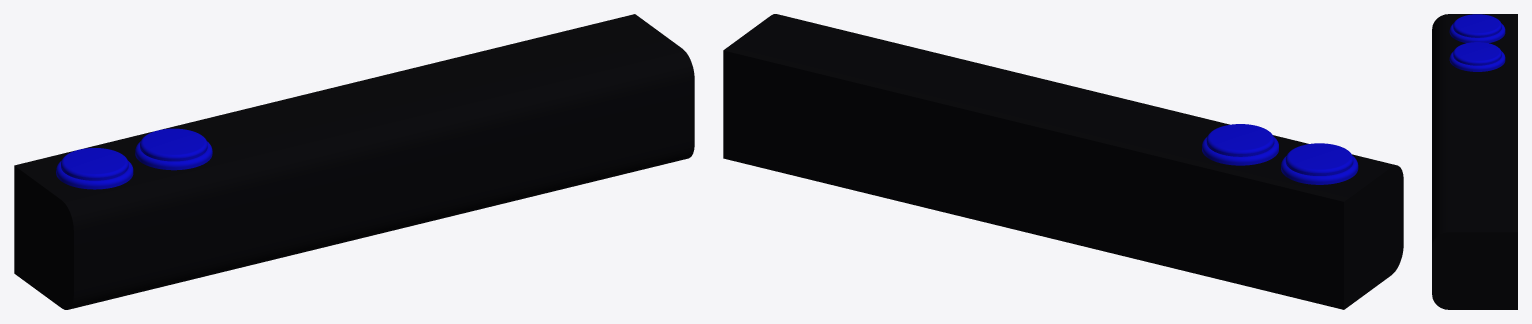
File: bottomWall.dae
3 views of the same model, side by side, from view 1: azimuth 30°, elevation 25°; view 2: azimuth 150°, elevation 25°; view 3: azimuth 270°, elevation 25° (orthographic). The views are drawn at different scales.
Parts seen in each view (by area): view 1: wall; view 2: wall; view 3: wall.
Boxes of the visible parts, x1=… form: wall: x1=14, y1=14, x2=694, y2=309; wall: x1=723, y1=14, x2=1403, y2=309; wall: x1=1432, y1=14, x2=1517, y2=309.
Size of the model in its own units: 0.3006 by 0.0556 by 0.05.
